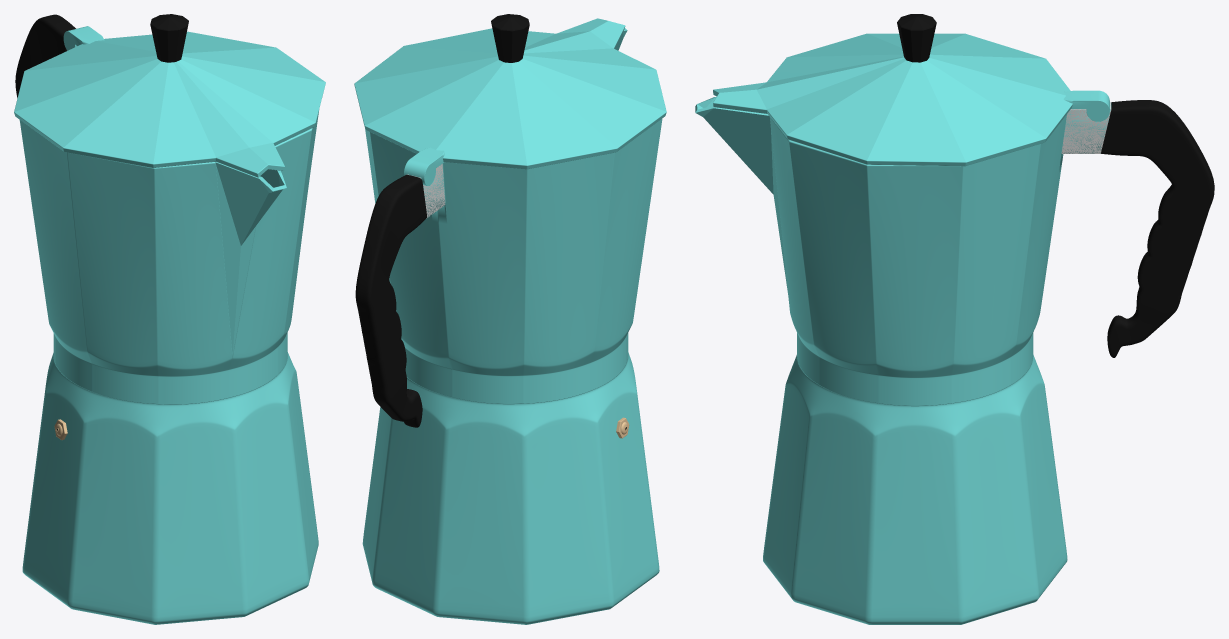
The model's file is uploads_files_2949614_coffee+pot.fbx.
3 renders of one model, left to right at view 1: azimuth 30°, elevation 25°; view 2: azimuth 150°, elevation 25°; view 3: azimuth 270°, elevation 25°, orthographic.
Visible parts, largest first — view 1: Cylinder, Cylinder.001, Cylinder.002, Cylinder.005, Cube, Cylinder.003, Cylinder.004; view 2: Cylinder, Cylinder.001, Cylinder.002, Cube, Cylinder.003, Cylinder.004, Cube.001; view 3: Cylinder.001, Cylinder, Cylinder.002, Cube, Cylinder.005, Cube.001, Cylinder.003, Cylinder.004.
Part boxes in pixels (<box>): Cylinder: <box>22,352,318,624</box>; Cylinder.001: <box>19,111,318,404</box>; Cylinder.002: <box>14,31,325,177</box>; Cylinder.005: <box>215,162,286,354</box>; Cube: <box>15,14,75,97</box>; Cylinder.003: <box>150,14,188,62</box>; Cylinder.004: <box>63,26,104,50</box>; Cylinder: <box>362,352,659,624</box>; Cylinder.001: <box>365,119,662,404</box>; Cylinder.002: <box>354,18,666,169</box>; Cube: <box>355,174,426,427</box>; Cylinder.003: <box>491,14,529,62</box>; Cylinder.004: <box>404,147,444,185</box>; Cube.001: <box>407,164,445,218</box>; Cylinder.001: <box>770,102,1111,406</box>; Cylinder: <box>763,355,1067,624</box>; Cylinder.002: <box>713,33,1072,166</box>; Cube: <box>1101,100,1214,357</box>; Cylinder.005: <box>695,97,788,294</box>; Cube.001: <box>1061,102,1111,153</box>; Cylinder.003: <box>897,14,936,62</box>; Cylinder.004: <box>1063,90,1109,121</box>.
Bounding box in the file's own units: 48.52 × 96.34 × 82.56.
